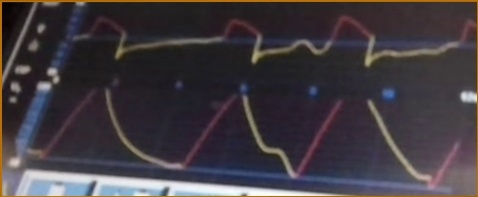Ineffective_effort Flow: (72, 8, 478, 67)
Ineffective_effort Volume: (28, 88, 459, 188)
